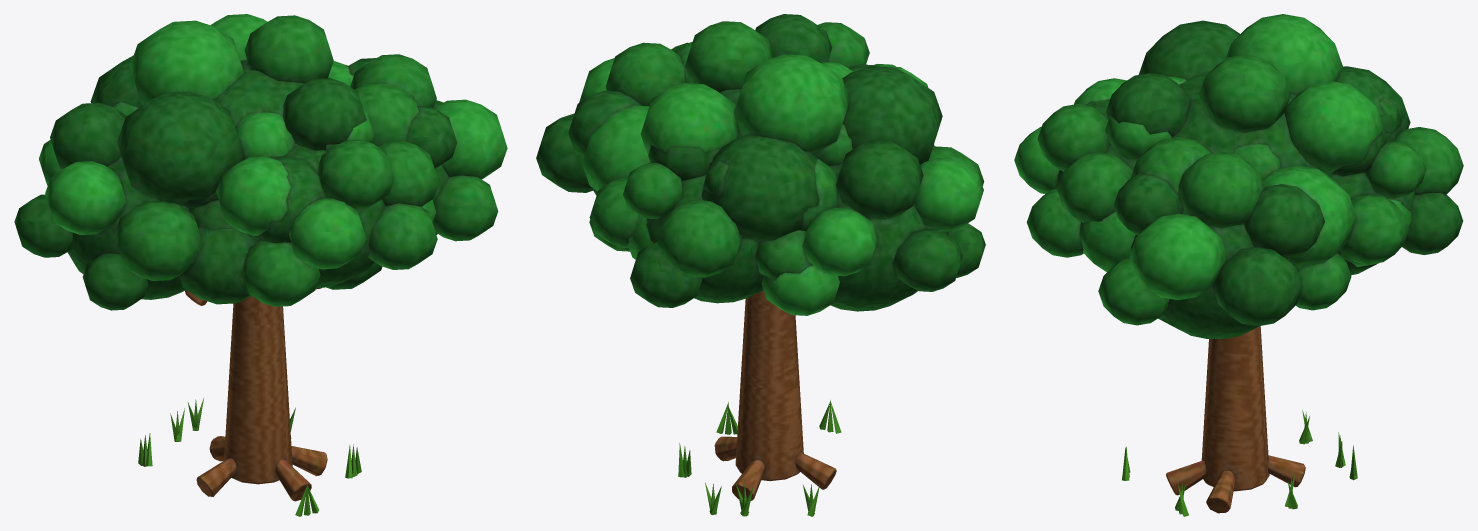
The model's file is jackfruit_tree.glb.
3 renders of one model, left to right at view 1: azimuth 30°, elevation 25°; view 2: azimuth 150°, elevation 25°; view 3: azimuth 270°, elevation 25°, orthographic.
Parts seen in each view (by area): view 1: crown, jackfruit_tree; view 2: crown, jackfruit_tree; view 3: crown, jackfruit_tree.
Boxes of the visible parts, x1,y1,x2,y2 form: crown: (14,14,507,310); jackfruit_tree: (138,288,361,516); crown: (536,14,985,315); jackfruit_tree: (678,290,841,516); crown: (1014,14,1463,338); jackfruit_tree: (1122,326,1357,516).
Size of the model in its own units: 1.3 by 1.28 by 1.17.
1 material, 1 textured.
